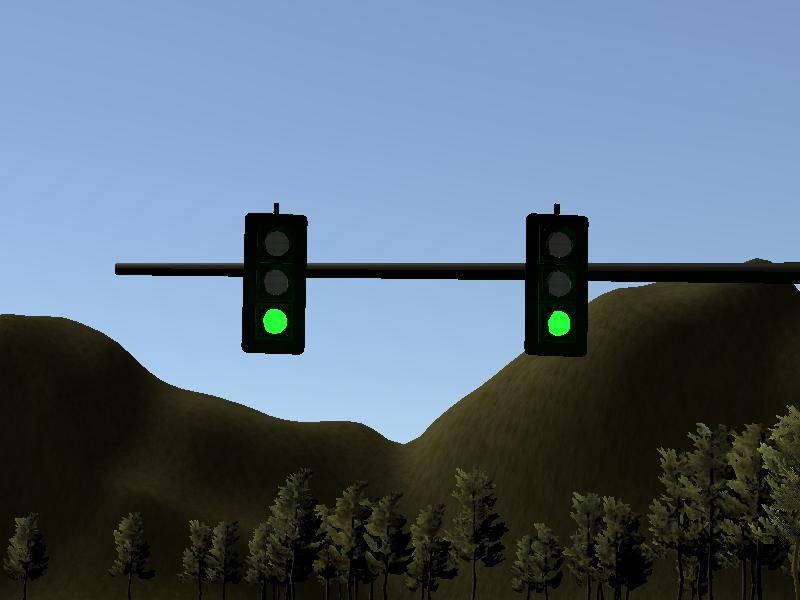green: (243, 213, 307, 356), (525, 215, 587, 357)
